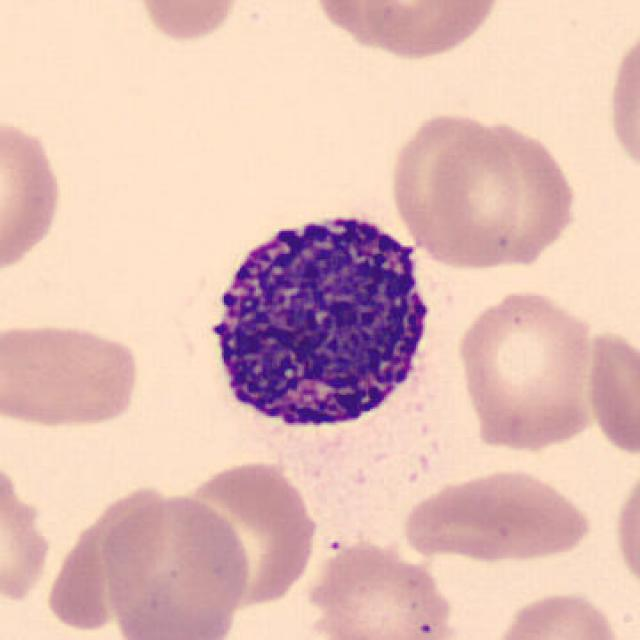Basophil: (192, 192, 448, 462)
RBC: (452, 284, 602, 455), (170, 457, 322, 610), (98, 490, 252, 638), (398, 463, 596, 568), (402, 118, 532, 272), (40, 474, 162, 631), (440, 124, 574, 262), (0, 316, 146, 434), (302, 536, 457, 640), (0, 109, 68, 282), (352, 0, 507, 62), (0, 462, 54, 609), (582, 324, 638, 462), (489, 587, 627, 640), (308, 0, 444, 51), (602, 19, 640, 185), (128, 0, 249, 46), (610, 460, 640, 600)
